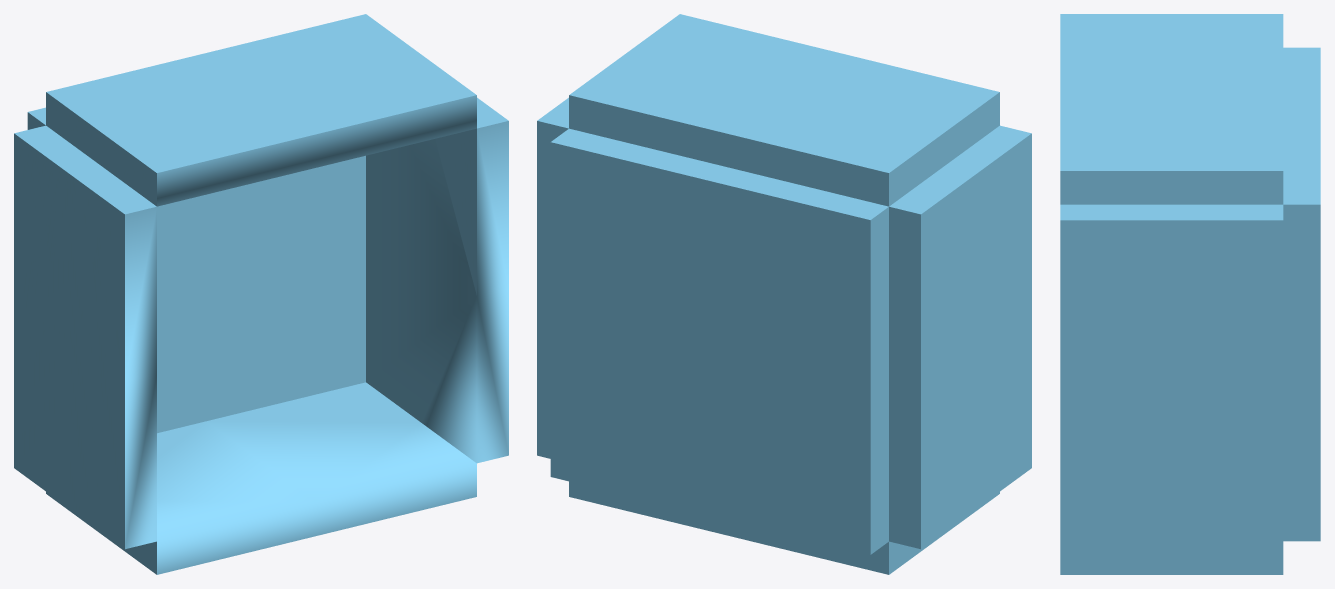
Rendered from GlassButton2.fbx.
3 renders of one model, left to right at view 1: azimuth 30°, elevation 25°; view 2: azimuth 150°, elevation 25°; view 3: azimuth 270°, elevation 25°, orthographic.
Visible parts, largest first — view 1: Cube.034; view 2: Cube.034; view 3: Cube.034.
Part boxes in pixels (<box>): Cube.034: <box>14,14,508,574</box>; Cube.034: <box>537,14,1031,574</box>; Cube.034: <box>1060,14,1320,574</box>.
Size of the model in its own units: 1200 by 1200 by 700.
